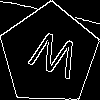W: (24, 29, 82, 89)
